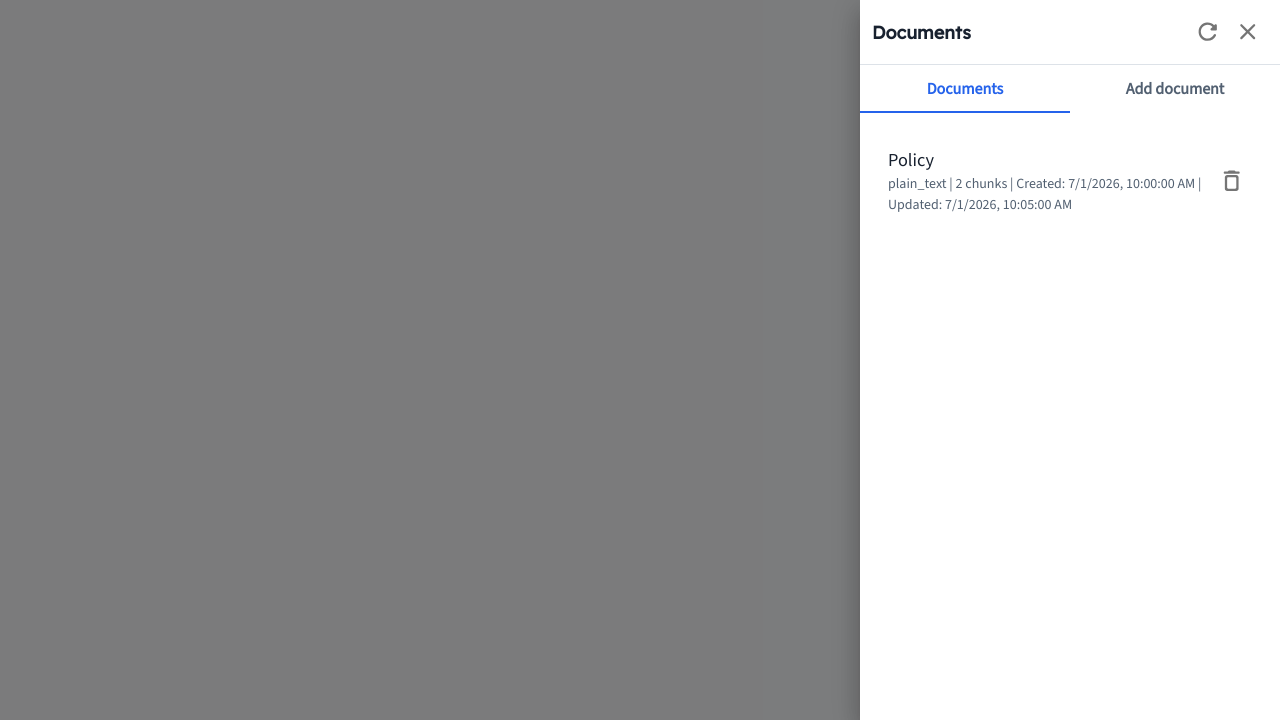
Test: DocumentsPanel › deletes a document and refreshes the list
The width and height of the screenshot is (1280, 720).
Step 1. Click the button named "Delete Policy" → (1232, 181), box [1212,161,1252,201]
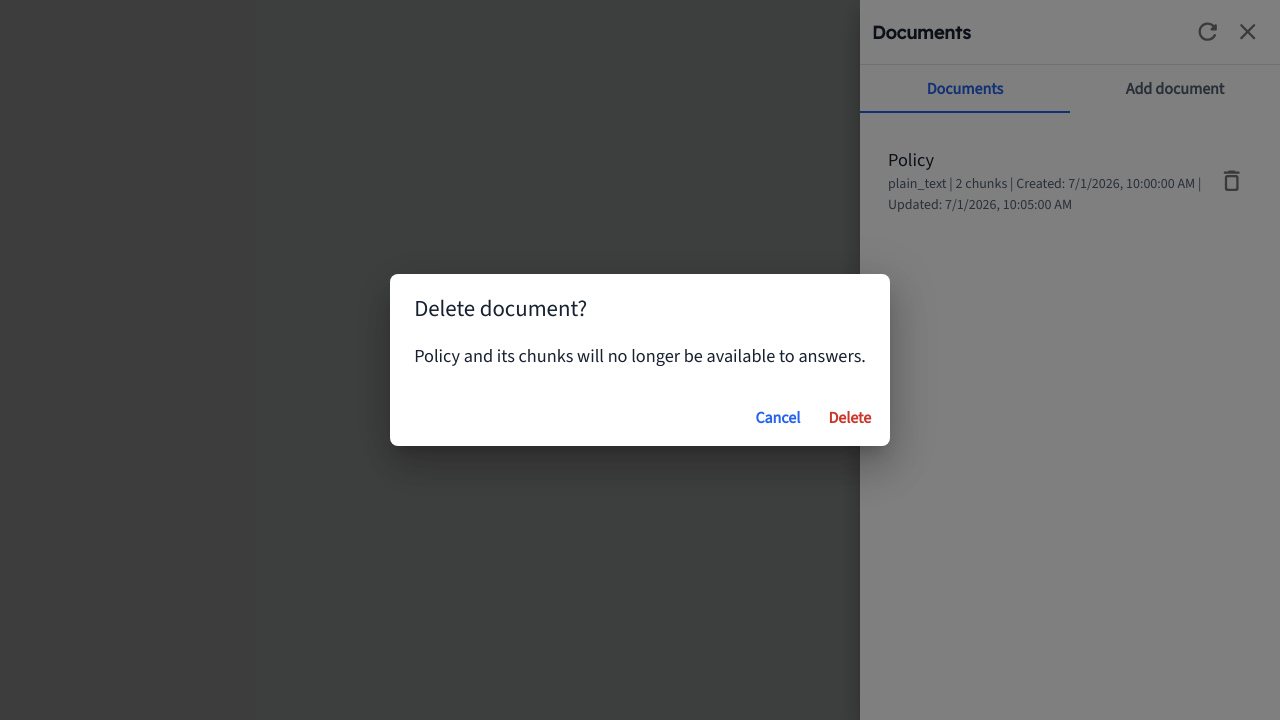
Step 2. Click the button "Delete" → (850, 418), box [818,398,882,438]
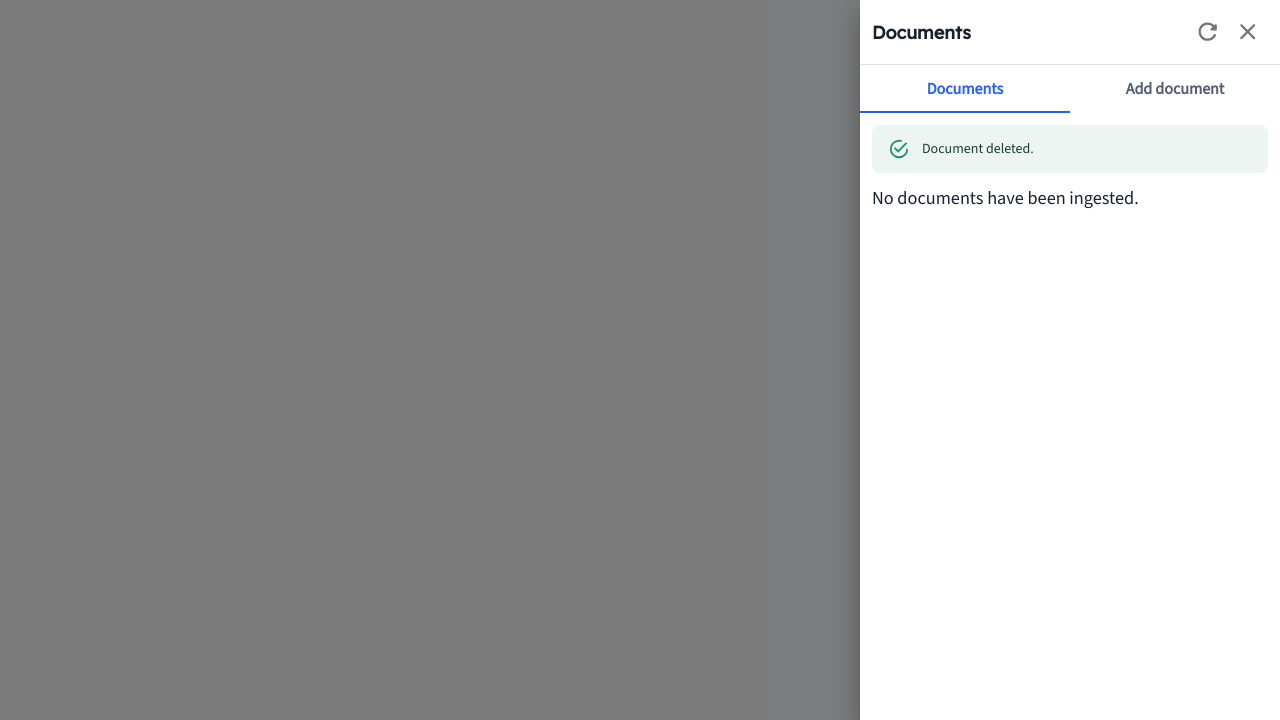
Check: the text "Document deleted." is shown, box [922,139,1034,158]
